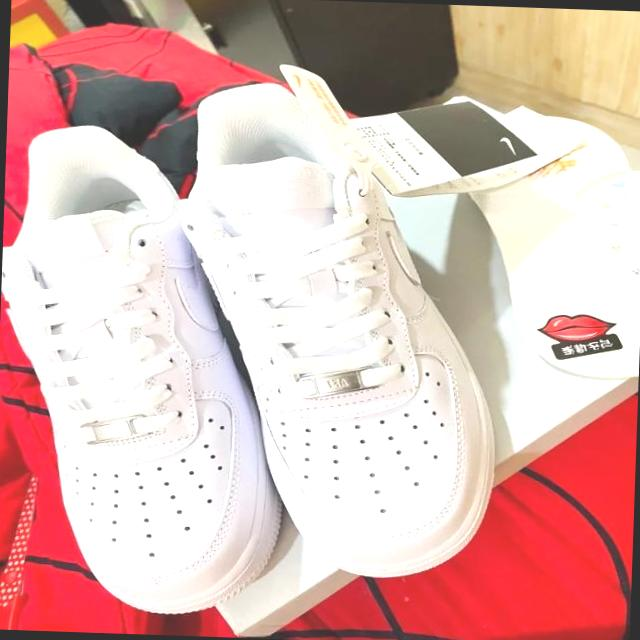nike_original_airforce: (176, 78, 513, 582), (0, 121, 297, 619)
